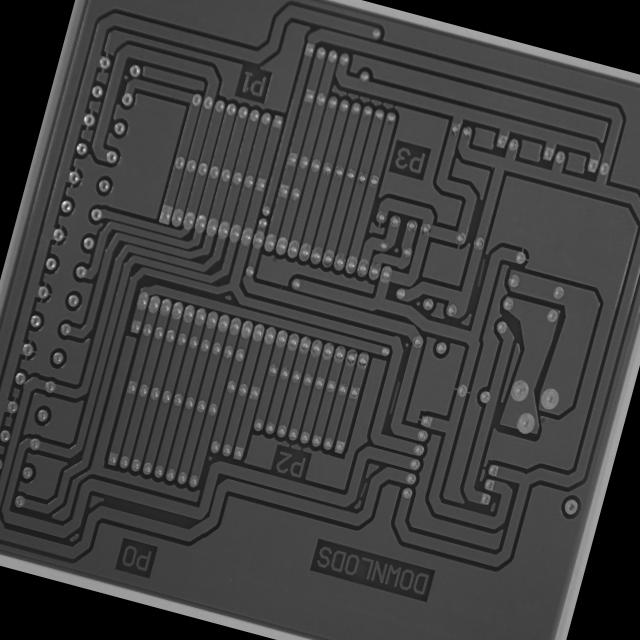spurious_copper: (384, 376, 405, 420), (471, 254, 492, 290), (354, 476, 372, 502)
